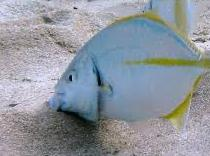Carangidae -Jacks-: (46, 7, 210, 131)
